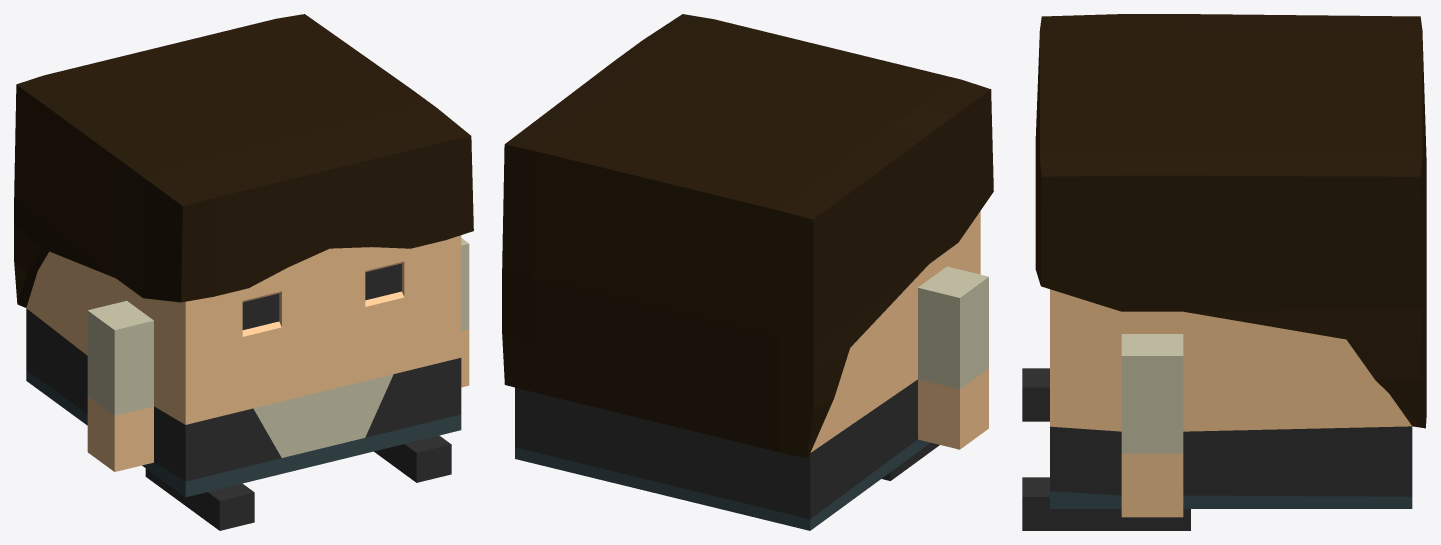
Rendered from Player-Solo.fbx.
The picture shows the model from 3 angles, left to right: view 1: azimuth 30°, elevation 25°; view 2: azimuth 150°, elevation 25°; view 3: azimuth 270°, elevation 25°; orthographic projection. The views are drawn at different scales.
Parts seen in each view (by area): view 1: Player-Solo; view 2: Player-Solo; view 3: Player-Solo.
Boxes of the visible parts, x1,y1,x2,y2 form: Player-Solo: (14, 14, 473, 530); Player-Solo: (502, 14, 993, 530); Player-Solo: (1022, 14, 1426, 530).
Size of the model in its own units: 257 by 229 by 223.
